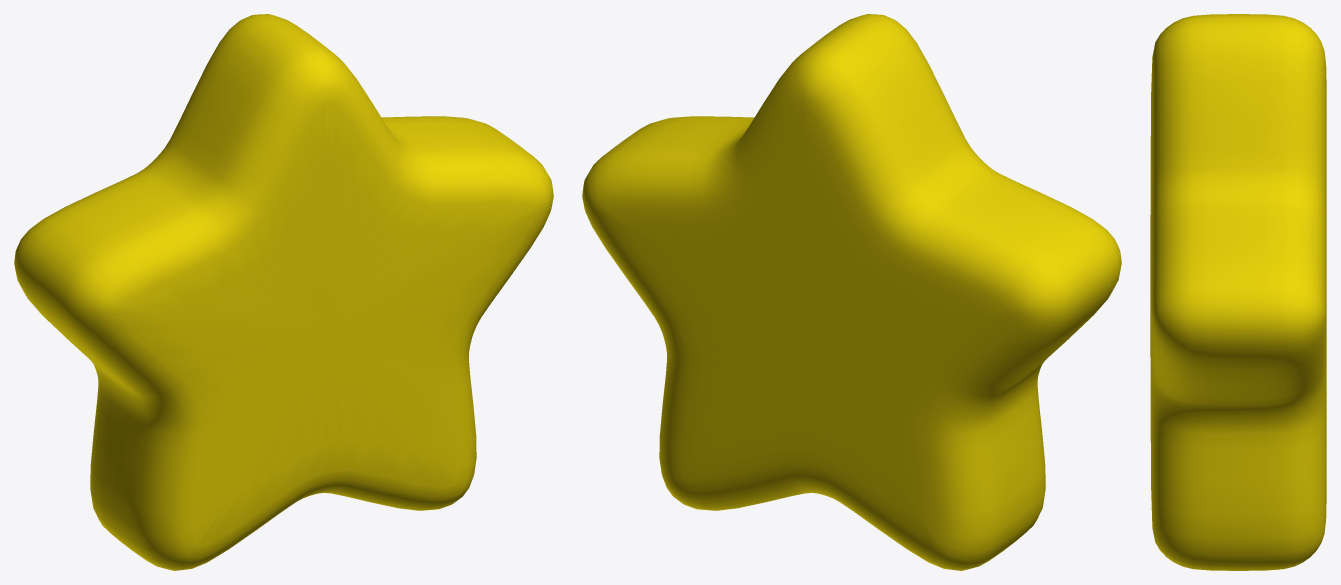
The model's file is 星星收集物.fbx.
3 views of the same model, side by side, from view 1: azimuth 30°, elevation 25°; view 2: azimuth 150°, elevation 25°; view 3: azimuth 270°, elevation 25° (orthographic).
Parts seen in each view (by area): view 1: Circle.017; view 2: Circle.017; view 3: Circle.017.
Boxes of the visible parts, box(x1,y1,x2,y2) form: Circle.017: box(14, 14, 553, 570); Circle.017: box(582, 14, 1121, 570); Circle.017: box(1150, 14, 1326, 570).
Size of the model in its own units: 111 by 106 by 34.83.
